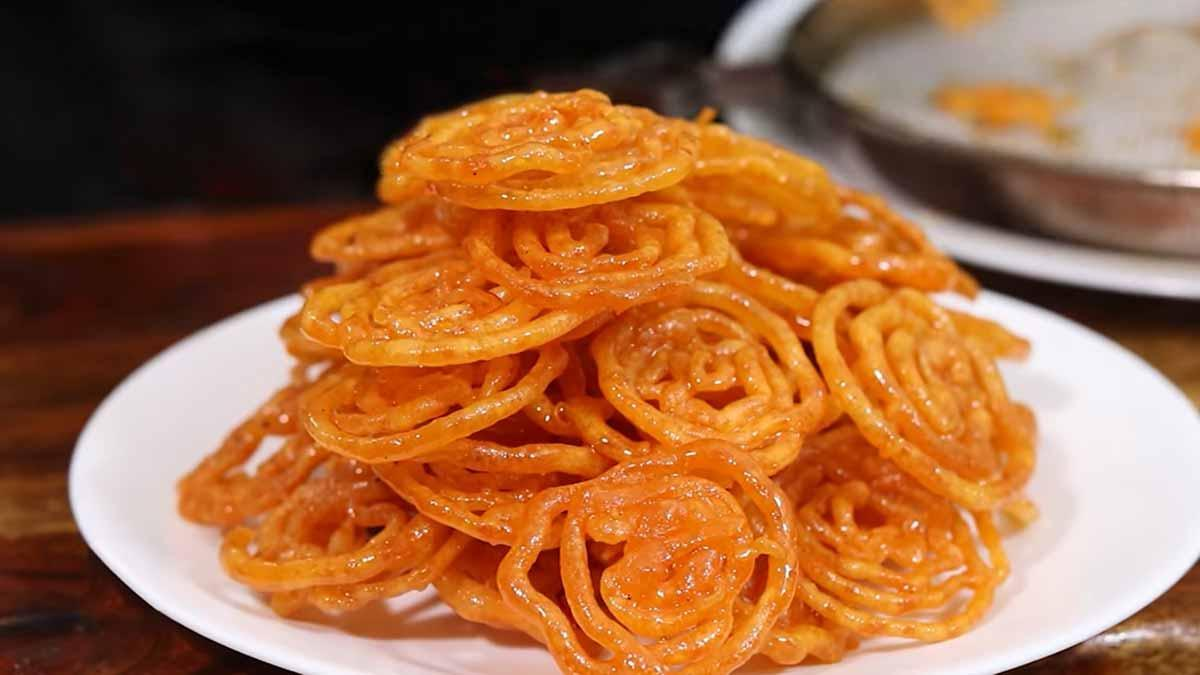jalebi: (230, 95, 1022, 642)
